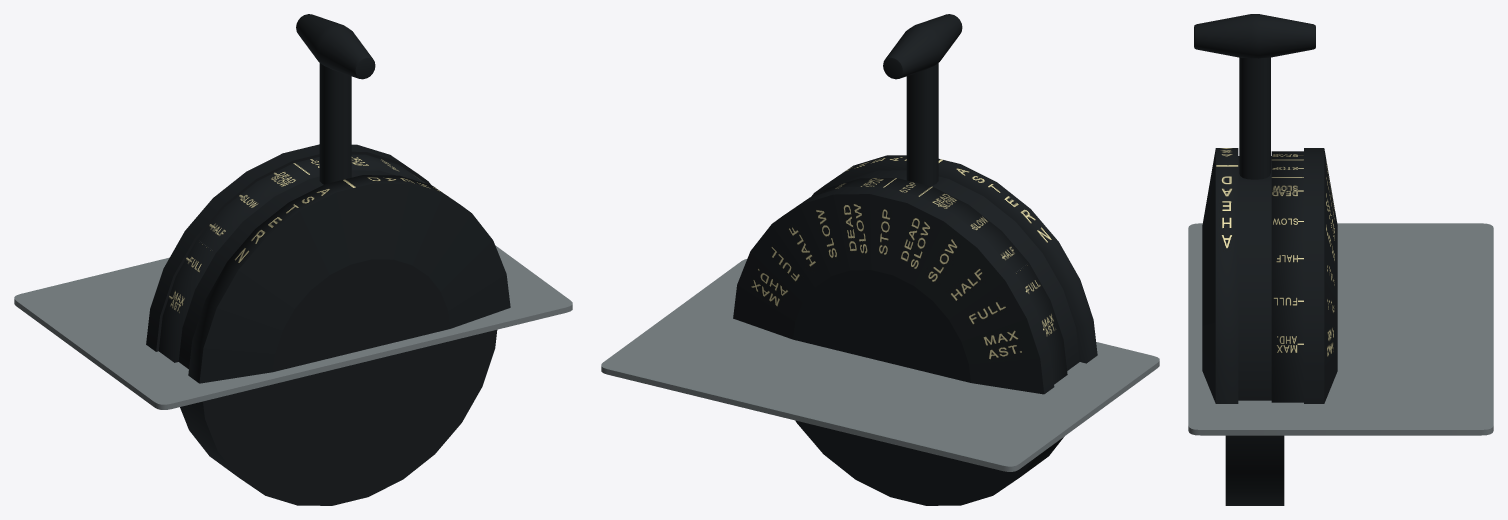
File: Telegraph.fbx
3 views of the same model, side by side, from view 1: azimuth 30°, elevation 25°; view 2: azimuth 150°, elevation 25°; view 3: azimuth 270°, elevation 25° (orthographic).
Parts seen in each view (by area): view 1: telegraph, telegraphLever, telegraphBase; view 2: telegraph, telegraphBase, telegraphLever; view 3: telegraphBase, telegraph, telegraphLever.
Part boxes in pixels (x1,y1,x2,y2): telegraph: (146, 144, 510, 383); telegraphLever: (178, 14, 497, 505); telegraphBase: (14, 245, 572, 409); telegraph: (733, 155, 1097, 394); telegraphBase: (601, 259, 1159, 471); telegraphLever: (795, 14, 1079, 505); telegraphBase: (1188, 223, 1493, 435); telegraph: (1202, 148, 1337, 403); telegraphLever: (1194, 14, 1315, 505).
Size of the model in its own units: 28.25 by 30.12 by 17.66.
Materials: 1 (1 with a texture image).
